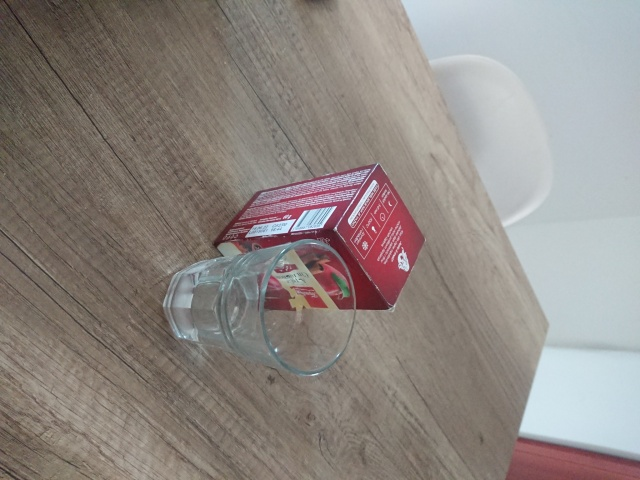Franck Apple Cinnamon Tea 60g: (210, 160, 428, 312)
